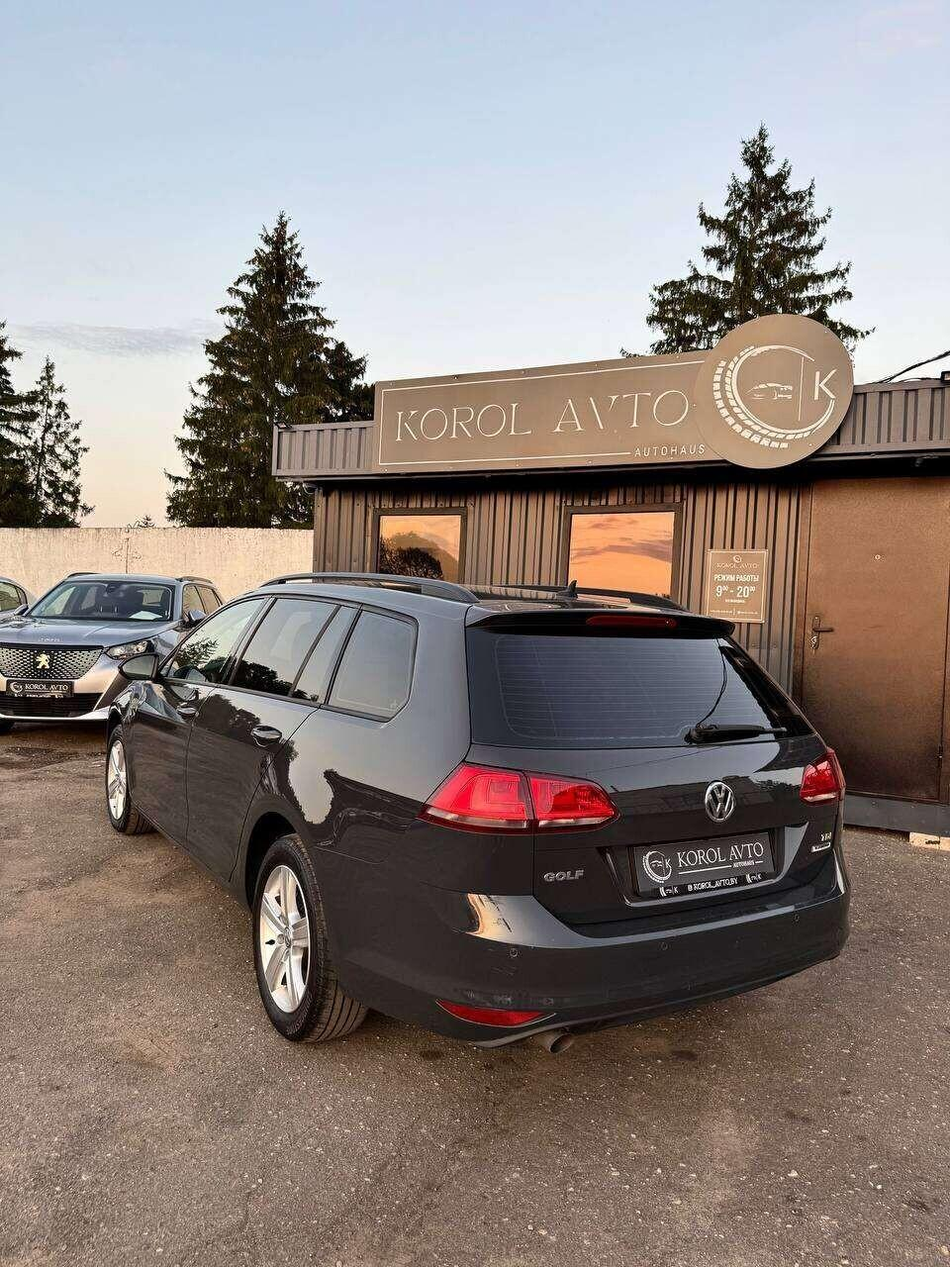Golf_2012-2017: (101, 587, 863, 1051)
